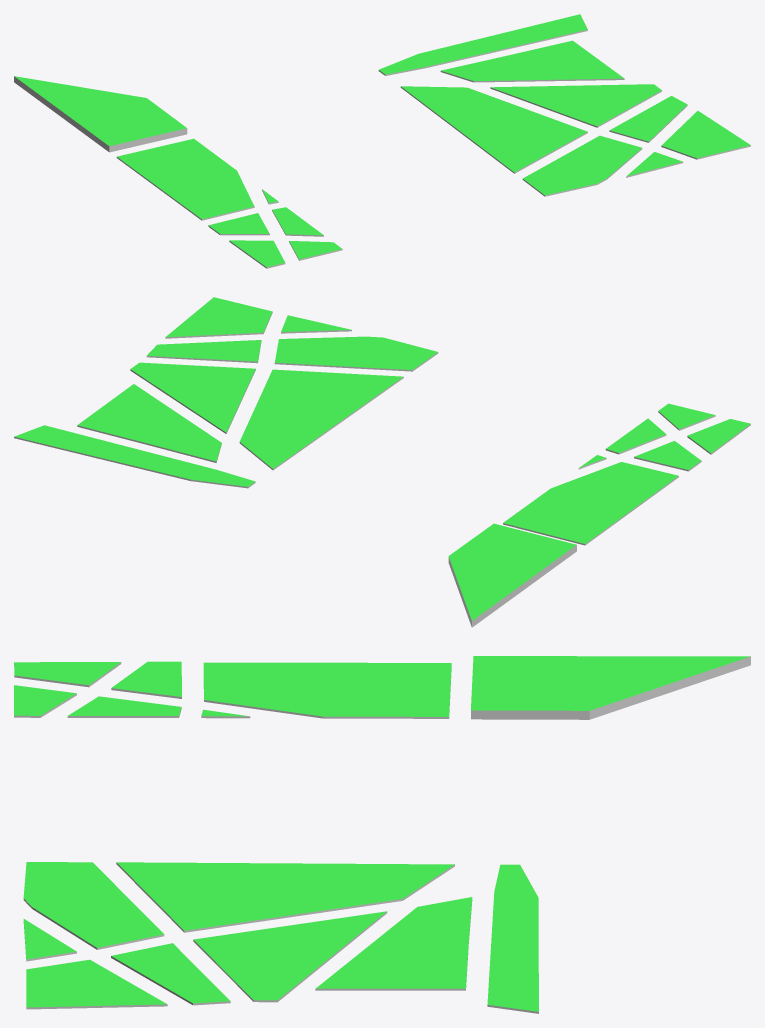
Rendered from Grass.fbx.
3 renders of one model, top to bottom at view 1: azimuth 30°, elevation 25°; view 2: azimuth 150°, elevation 25°; view 3: azimuth 270°, elevation 25°, orthographic. The views are drawn at different scales.
Visible parts, largest first — view 1: Grass 10, Grass 7, Grass 6, Grass 12, Grass 15, Grass 9, Grass 16, Grass 13, Grass 14, Grass 4, Grass 3, Grass 2 (+2 smaller); view 2: Grass 10, Grass 6, Grass 7, Grass 12, Grass 15, Grass 9, Grass 16, Grass 13, Grass 14, Grass 4, Grass 3, Grass 2 (+2 smaller); view 3: Grass 10, Grass 7, Grass 6, Grass 12, Grass 15, Grass 9, Grass 16, Grass 13, Grass 14, Grass 4, Grass 3, Grass 2 (+2 smaller).
Boxes of the visible parts, left/top/right/bottom form: Grass 10: left=400, top=86, right=587, bottom=173; Grass 7: left=14, top=76, right=187, bottom=152; Grass 6: left=116, top=138, right=254, bottom=220; Grass 12: left=440, top=40, right=624, bottom=82; Grass 15: left=490, top=84, right=661, bottom=127; Grass 9: left=522, top=135, right=642, bottom=196; Grass 16: left=378, top=14, right=587, bottom=75; Grass 13: left=661, top=111, right=750, bottom=159; Grass 14: left=609, top=96, right=687, bottom=142; Grass 4: left=229, top=240, right=285, bottom=268; Grass 3: left=208, top=213, right=269, bottom=235; Grass 2: left=272, top=207, right=323, bottom=236; Grass 10: left=239, top=369, right=403, bottom=470; Grass 6: left=503, top=462, right=678, bottom=545; Grass 7: left=448, top=523, right=576, bottom=627; Grass 12: left=77, top=384, right=221, bottom=462; Grass 15: left=130, top=362, right=255, bottom=433; Grass 9: left=274, top=336, right=438, bottom=371; Grass 16: left=14, top=425, right=255, bottom=488; Grass 13: left=165, top=297, right=272, bottom=338; Grass 14: left=146, top=340, right=261, bottom=363; Grass 4: left=687, top=419, right=750, bottom=454; Grass 3: left=634, top=441, right=701, bottom=471; Grass 2: left=605, top=418, right=666, bottom=454; Grass 10: left=116, top=862, right=454, bottom=932; Grass 7: left=471, top=656, right=750, bottom=719; Grass 6: left=203, top=662, right=451, bottom=718; Grass 12: left=315, top=897, right=472, bottom=990; Grass 15: left=193, top=911, right=387, bottom=1002; Grass 9: left=23, top=862, right=164, bottom=949; Grass 16: left=487, top=864, right=538, bottom=1013; Grass 13: left=26, top=959, right=167, bottom=1009; Grass 14: left=111, top=943, right=230, bottom=1005; Grass 4: left=14, top=662, right=121, bottom=687; Grass 3: left=111, top=661, right=181, bottom=698; Grass 2: left=67, top=696, right=181, bottom=717.
Bounding box in the file's own units: 7531 × 90 × 6699.
